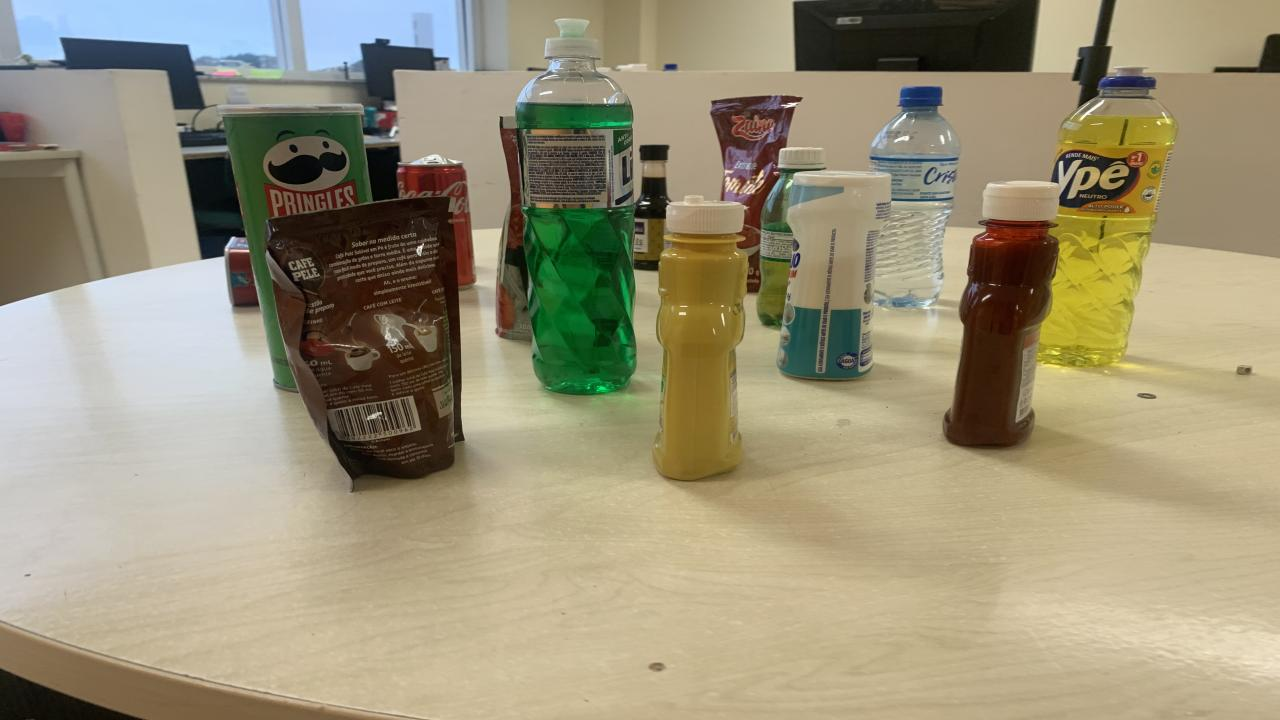Cleaner-Cleanup_Items: (778, 171, 892, 379)
Coffee-Pantry_Items: (265, 197, 462, 480)
Coke-Drinks: (398, 154, 475, 287)
Detergent-Cleanup_Items: (515, 19, 635, 394), (1040, 68, 1178, 366)
English_Sauce-Pantry_Items: (632, 144, 670, 270)
Guarana-Drinks: (758, 146, 825, 326)
Ketchup-Pantry_Items: (945, 218, 1058, 446), (985, 182, 1060, 218)
Mustard-Pantry_Items: (652, 195, 748, 480)
Pringles-Snacks: (218, 105, 372, 390)
Tomato_Sauce-Pantry_Items: (710, 96, 802, 292), (495, 116, 532, 341)
Tuna_Can-Pantry_Items: (225, 236, 258, 306)
Water_Bottle-Drinks: (870, 86, 962, 308)
